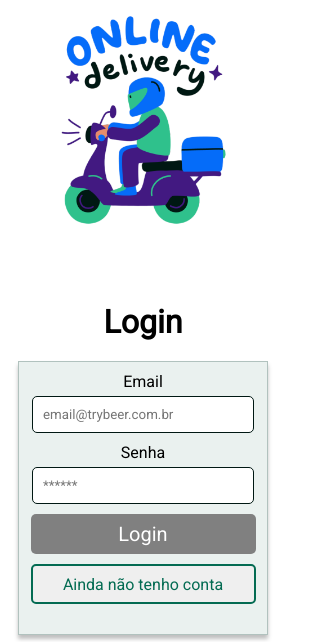
Scenario: Testa a tela de login › Após os valores corretos serem passados aos inputs habilita o login
This screenshot has width=320, height=642.
Check: the button with test id "common_login__button-login" is disabled, box [30,514,256,554]
Type "zebirita@email.com" into the field with test id "common_login__input-email".
click(143, 414); type("zebirita@email.com")  # box [32,396,254,433]
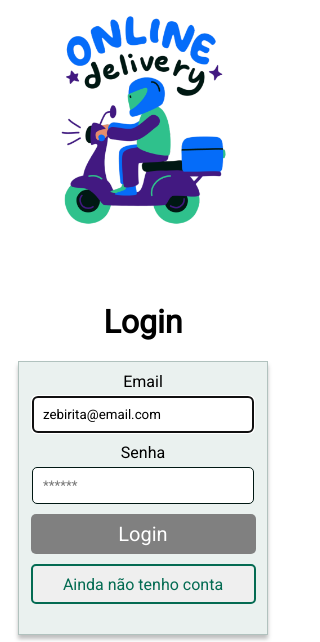
Type "$#zebirita#$" into the password field with test id "common_login__input-password".
click(143, 486); type("$#zebirita#$")  # box [32,467,254,504]
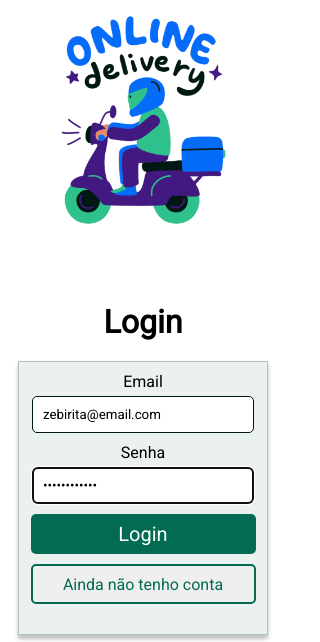
Check: the button with test id "common_login__button-login" is enabled, box [30,514,256,554]
